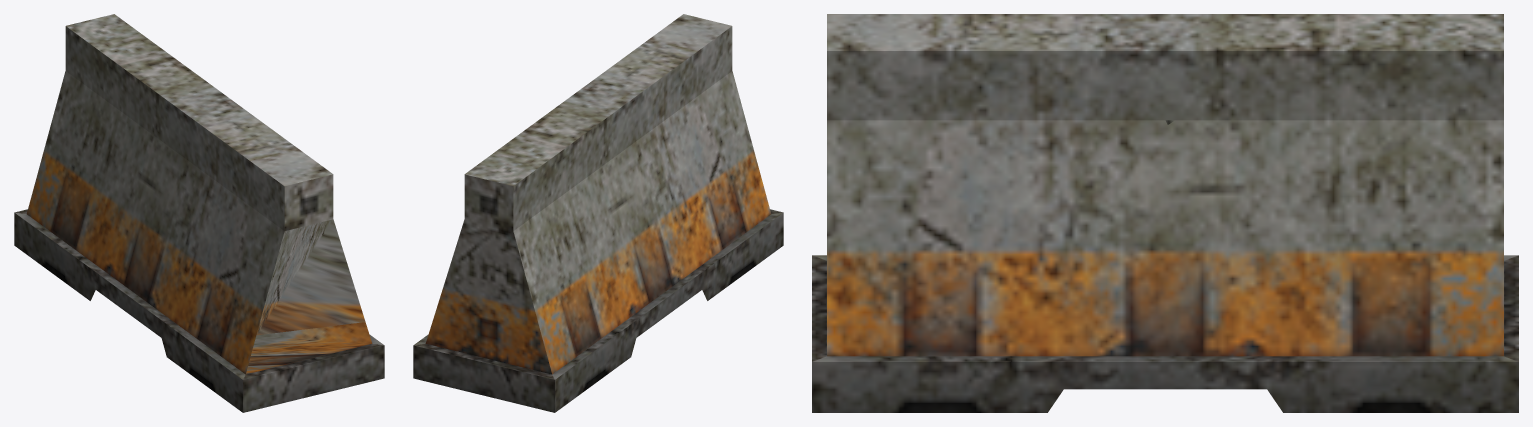
File: Road_barrier2.fbx
The picture shows the model from 3 angles, left to right: view 1: azimuth 30°, elevation 25°; view 2: azimuth 150°, elevation 25°; view 3: azimuth 270°, elevation 25°; orthographic projection. The views are drawn at different scales.
Parts seen in each view (by area): view 1: 2, polySurface2, 1; view 2: 1, polySurface2, 2; view 3: 1, 2, polySurface2.
Boxes of the visible parts, left/top/right/bottom form: 2: left=135, top=96, right=365, bottom=336; polySurface2: left=14, top=169, right=384, bottom=412; 1: left=39, top=14, right=226, bottom=257; 1: left=436, top=92, right=635, bottom=328; polySurface2: left=413, top=174, right=783, bottom=412; 2: left=577, top=14, right=760, bottom=259; 1: left=1145, top=14, right=1503, bottom=341; 2: left=827, top=14, right=1200, bottom=315; polySurface2: left=812, top=238, right=1518, bottom=412.
Bounding box in the file's own units: 0.2063 × 0.2949 × 0.5772.
